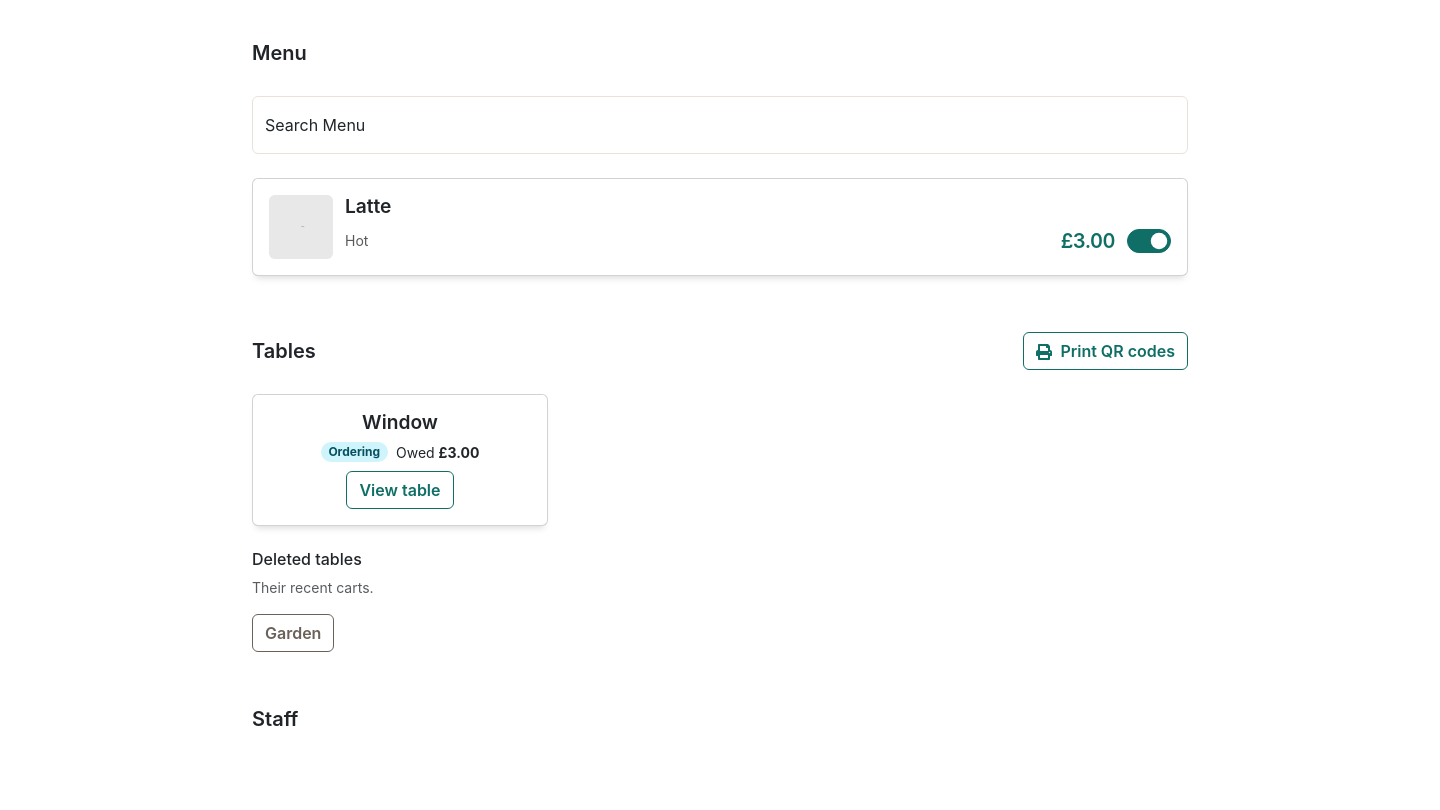
Test case: the table sheet › gives the floor the cart fixes and no money: no refund, no pay-backs, no refund instructions
(page scrolled)
Step 1. Click the button with aria-label "View table Window" → (400, 490), box [346,471,454,509]
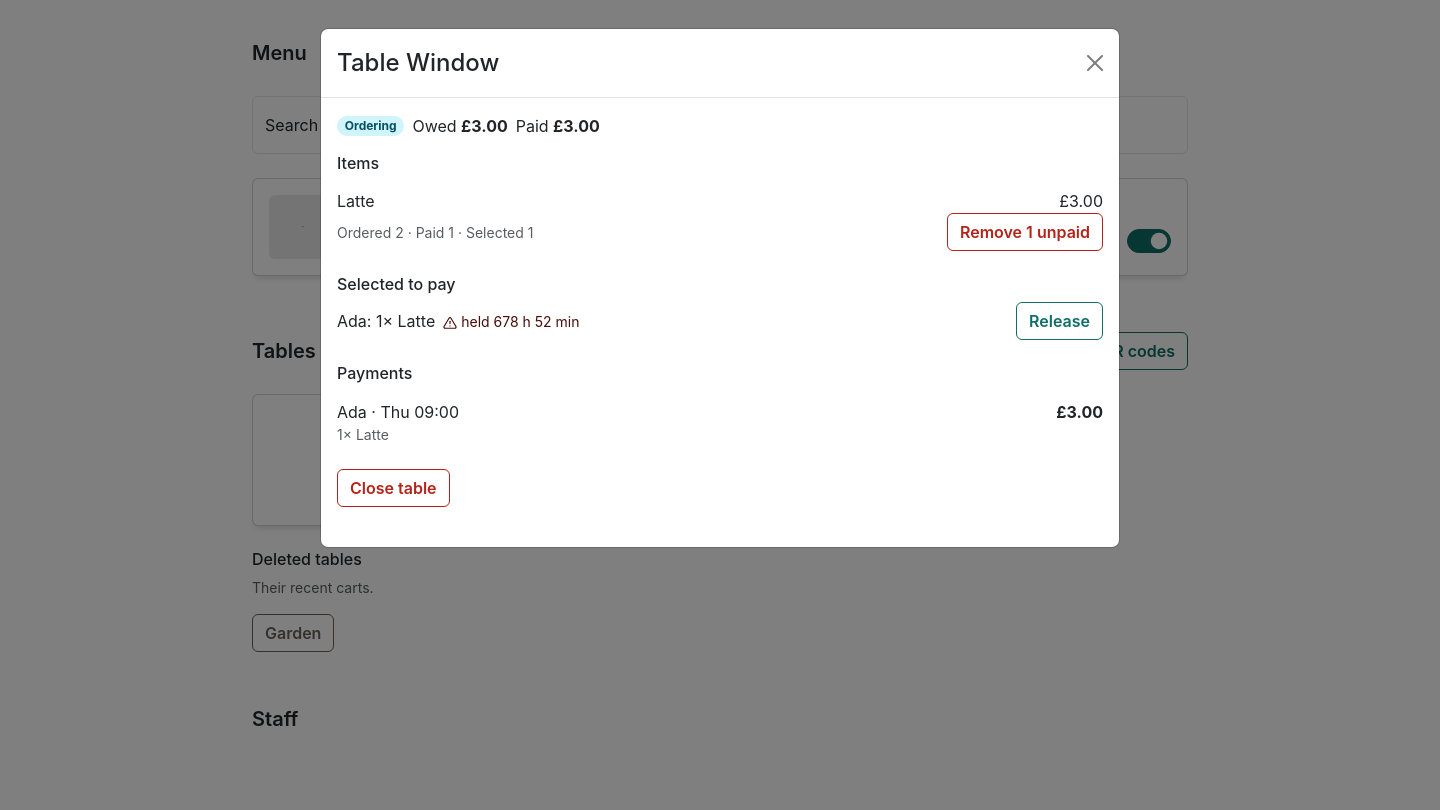
expect the text "Ada: 1× Latte" is shown: met, box [337,309,580,333]
